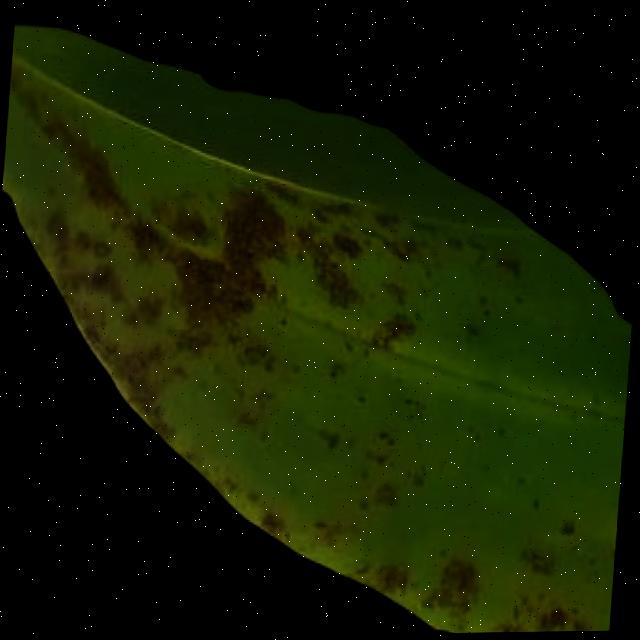mite: (99, 178, 636, 577), (316, 425, 343, 452), (560, 517, 580, 537), (376, 428, 396, 448)
spots: (0, 15, 639, 636)
